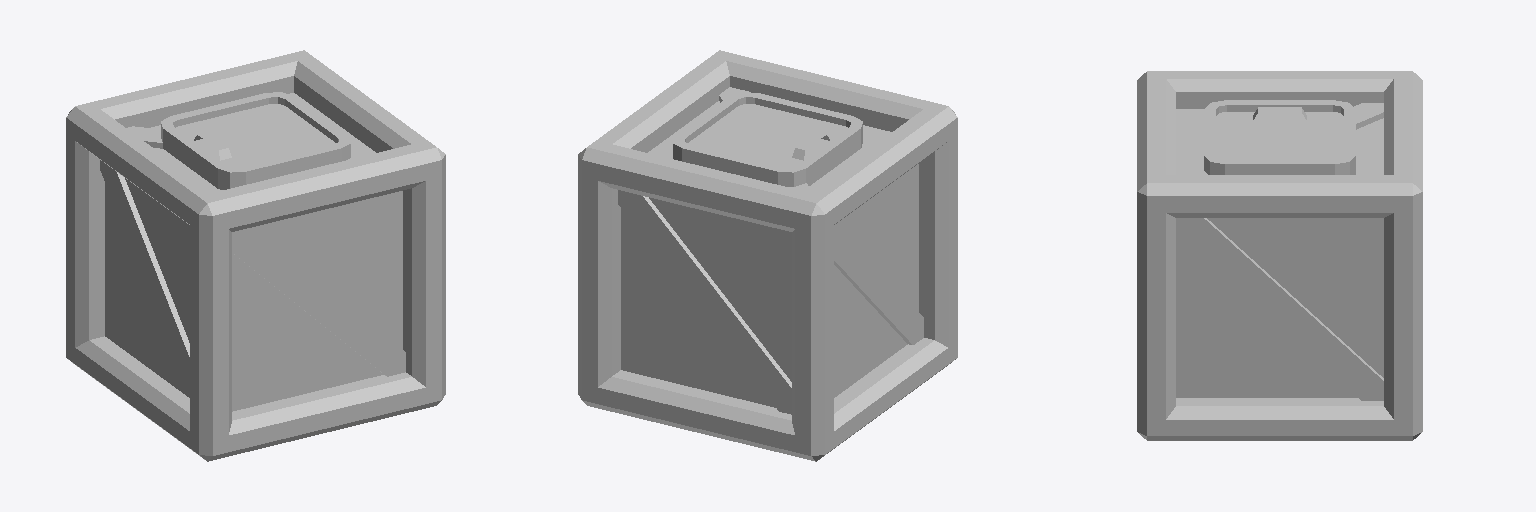
Rendered from crate2.obj.
3 renders of one model, left to right at view 1: azimuth 30°, elevation 25°; view 2: azimuth 150°, elevation 25°; view 3: azimuth 270°, elevation 25°, orthographic.
Bounding box in the file's own units: 2 × 2 × 2.